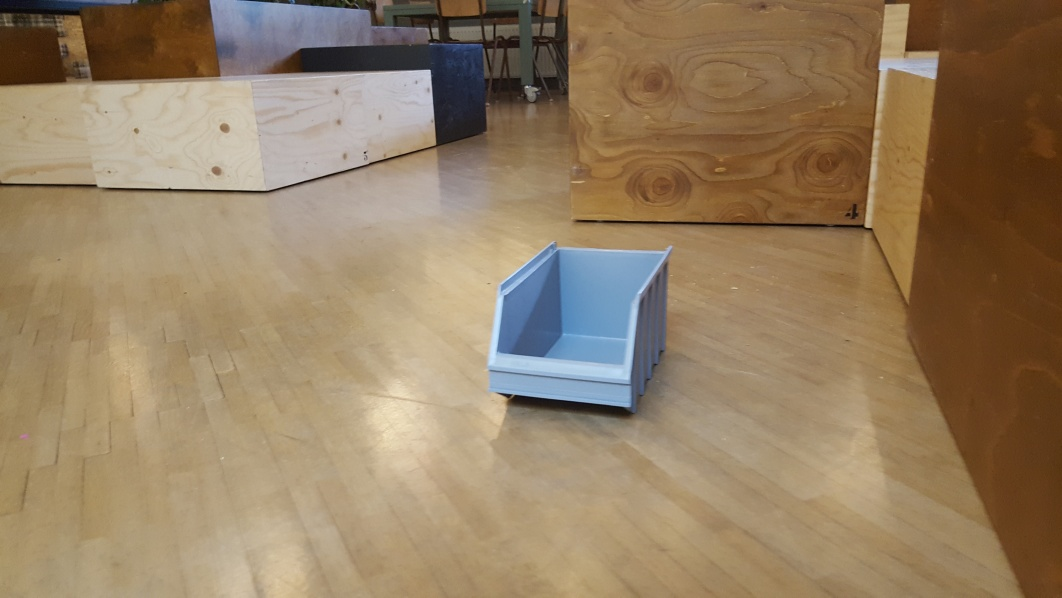tray: (483, 241, 677, 414)
